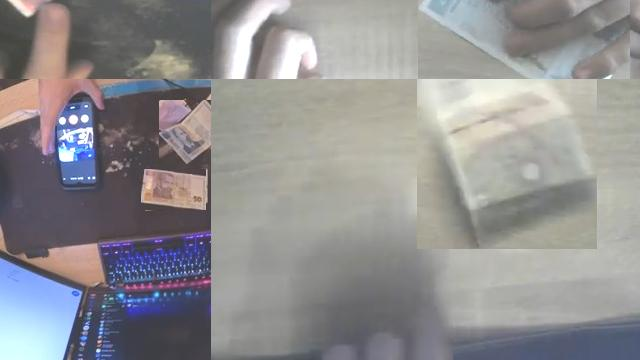10leva: (417, 79, 597, 249)
20leva: (418, 0, 630, 79), (160, 100, 211, 163)
50leva: (142, 169, 206, 210)
